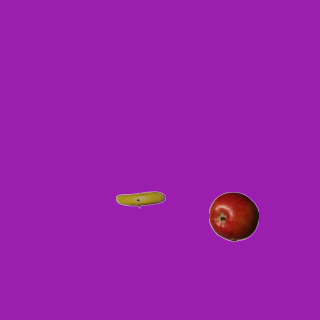Apple Braeburn: (208, 191, 258, 241)
Banana: (115, 174, 165, 224)
